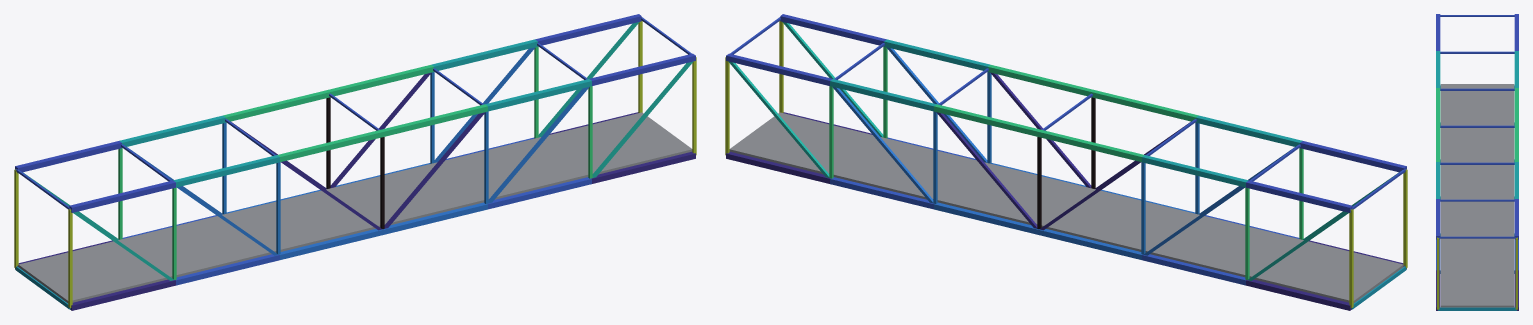
The model's file is 20_3_6_HEA160.glb.
The picture shows the model from 3 angles, left to right: view 1: azimuth 30°, elevation 25°; view 2: azimuth 150°, elevation 25°; view 3: azimuth 270°, elevation 25°; orthographic projection. The views are drawn at different scales.
Bounding box in the file's own units: 20.09 × 3.16 × 3.16.
